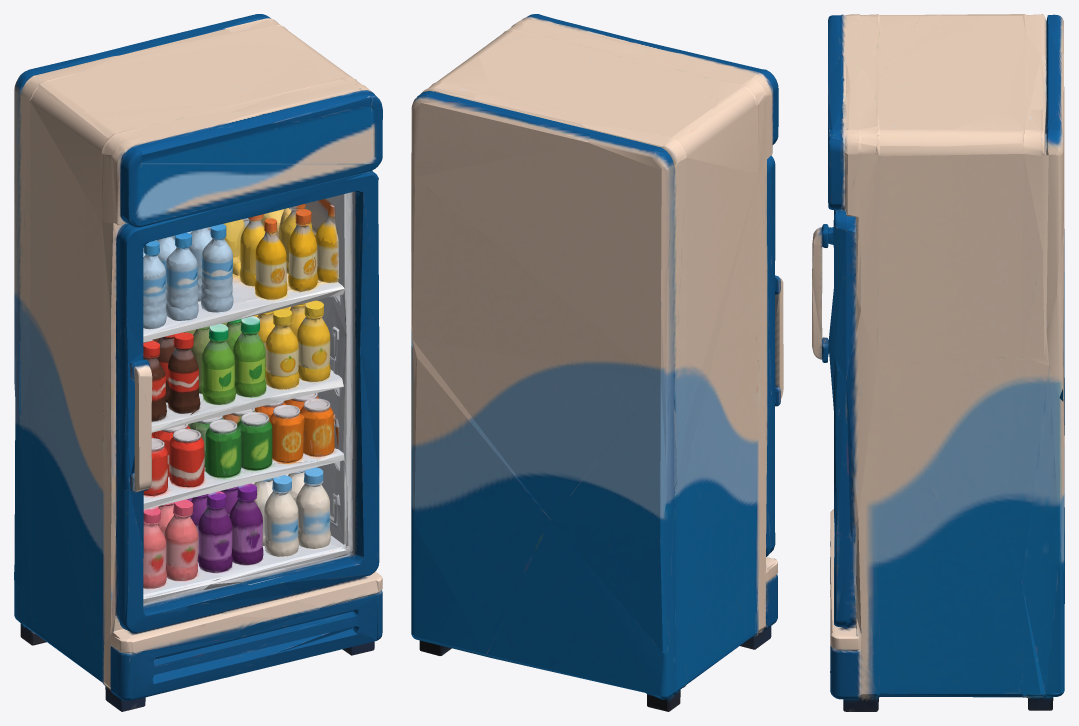
File: Meshy_AI_Cool_Drink_Vending_Fr_1024135707_texture.fbx
The picture shows the model from 3 angles, left to right: view 1: azimuth 30°, elevation 25°; view 2: azimuth 150°, elevation 25°; view 3: azimuth 270°, elevation 25°; orthographic projection. The views are drawn at different scales.
Parts seen in each view (by area): view 1: output_unwrapped; view 2: output_unwrapped; view 3: output_unwrapped.
Part boxes in pixels (x1,y1,x2,y2): output_unwrapped: (14, 14, 382, 711); output_unwrapped: (411, 14, 783, 711); output_unwrapped: (812, 14, 1064, 711).
Size of the model in its own units: 92.7 by 190 by 75.53.
1 material, 1 textured.
